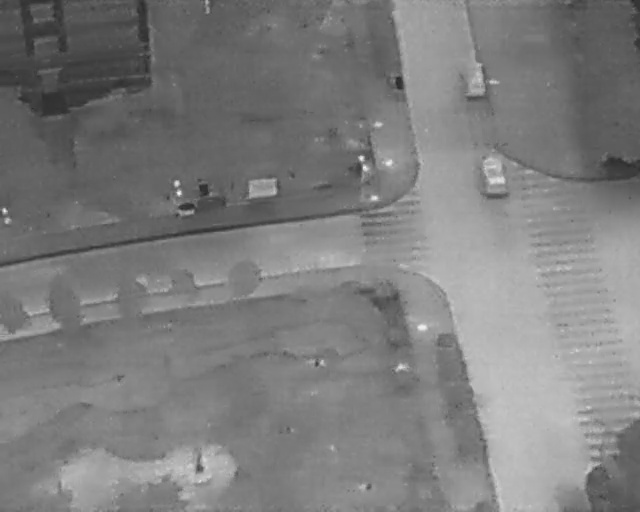Car: (480, 150, 509, 197), (460, 60, 486, 95)
